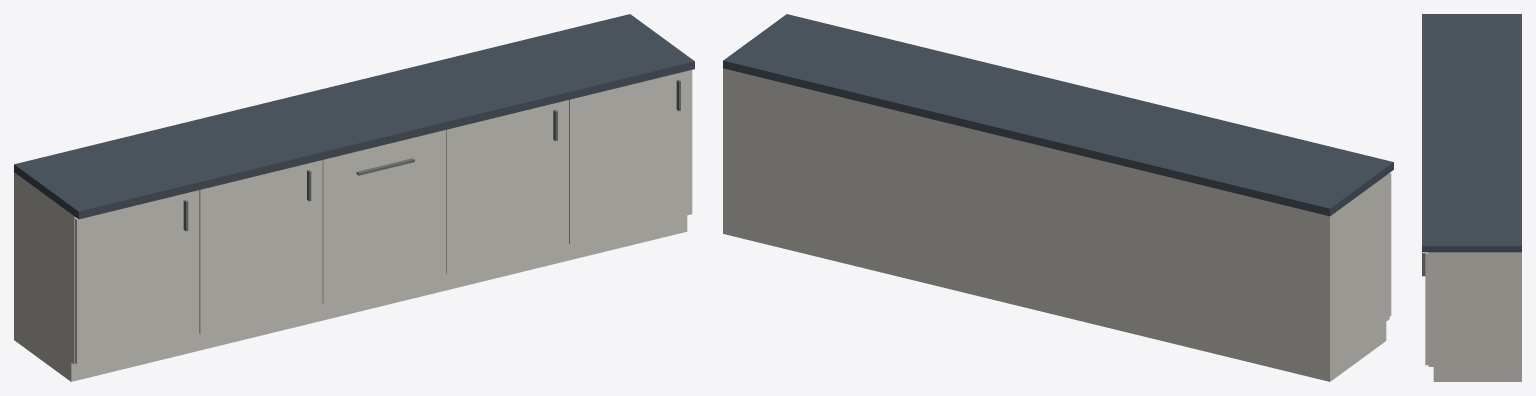
File: KitchenCounter.fbx
3 views of the same model, side by side, from view 1: azimuth 30°, elevation 25°; view 2: azimuth 150°, elevation 25°; view 3: azimuth 270°, elevation 25° (orthographic). The views are drawn at different scales.
Parts seen in each view (by area): view 1: Kitchen_Counter, Counter_DrawerFront_C; view 2: Kitchen_Counter; view 3: Kitchen_Counter.
Part boxes in pixels (x1,y1,x2,y2): Kitchen_Counter: [14, 14, 694, 381]; Counter_DrawerFront_C: [322, 130, 445, 303]; Kitchen_Counter: [723, 14, 1393, 381]; Kitchen_Counter: [1422, 14, 1521, 381].
Bounding box in the file's own units: 3.3 × 0.9 × 0.6.
